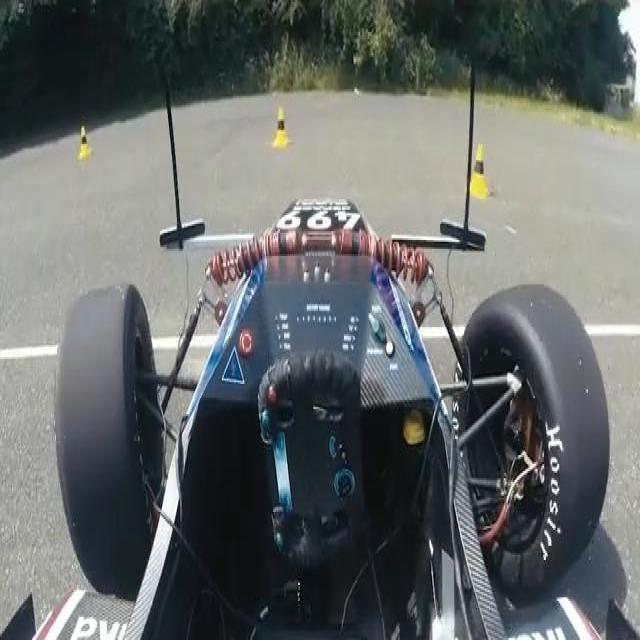yellow_cone: (467, 146, 491, 199), (273, 105, 292, 148), (79, 126, 93, 159)
